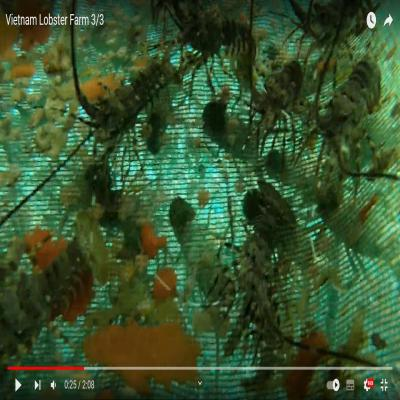lobster: (0, 251, 83, 349), (90, 66, 160, 153), (326, 58, 382, 163), (238, 196, 278, 325), (175, 16, 253, 70), (296, 5, 365, 52), (262, 65, 300, 125)
